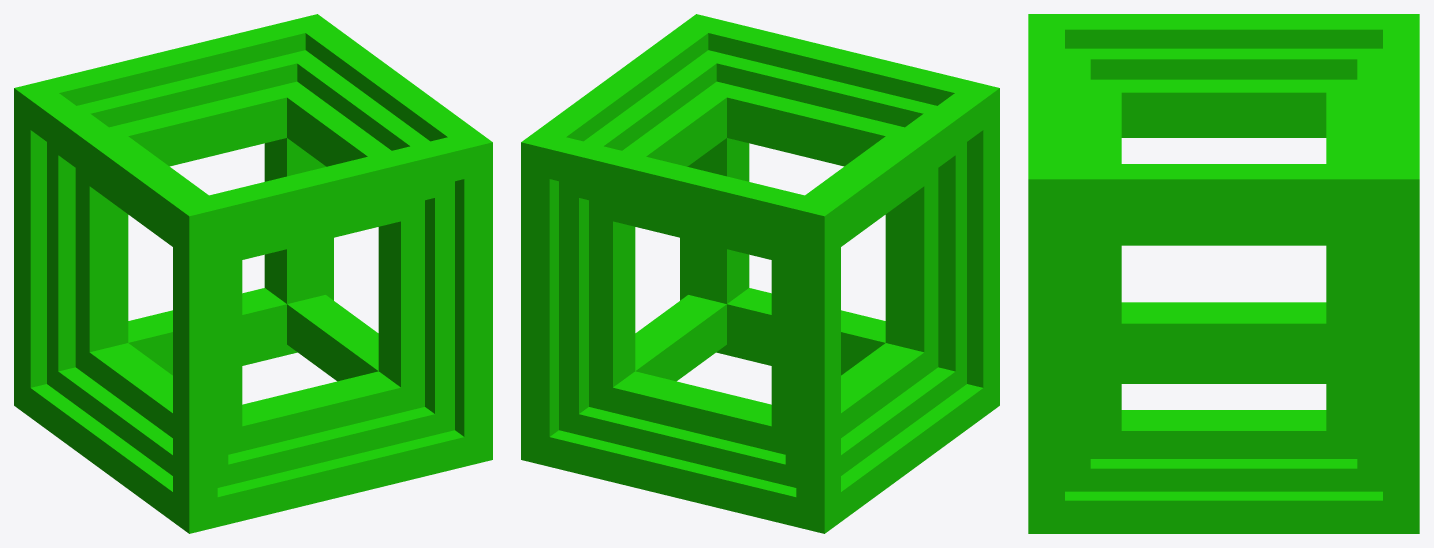
Rendered from player_cube.glb.
3 views of the same model, side by side, from view 1: azimuth 30°, elevation 25°; view 2: azimuth 150°, elevation 25°; view 3: azimuth 270°, elevation 25° (orthographic). The views are drawn at different scales.
Visible parts, largest first — view 1: player_cube; view 2: player_cube; view 3: player_cube.
Part boxes in pixels (x1,y1,x2,y2): player_cube: [14, 14, 492, 533]; player_cube: [521, 14, 999, 533]; player_cube: [1028, 14, 1419, 533].
Bounding box in the file's own units: 3.17 × 3.17 × 3.17.
